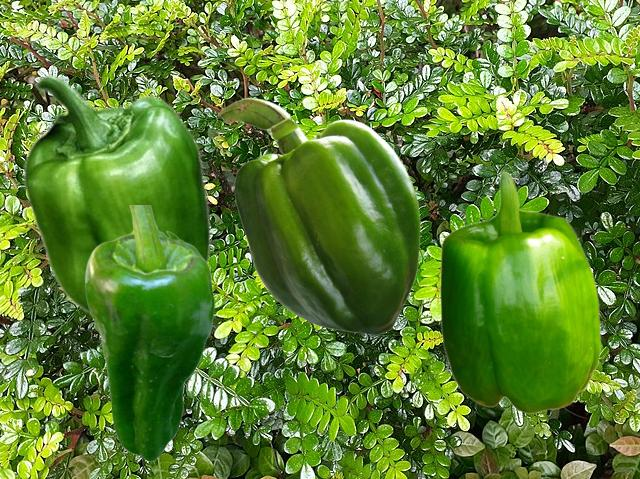bell_pepper: (217, 97, 419, 334), (22, 74, 211, 316), (439, 171, 600, 413), (84, 205, 214, 461)
